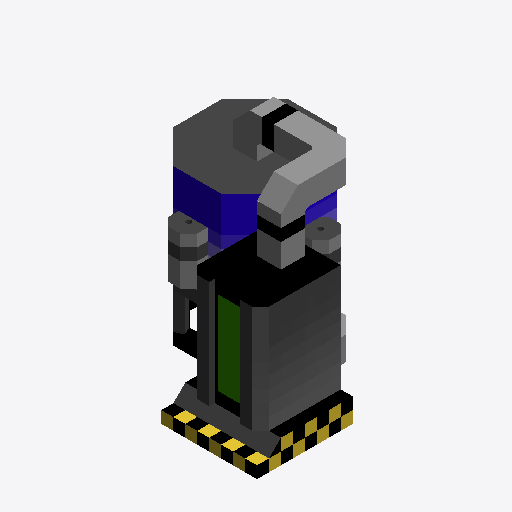
A Minecraft block model of 85 cuboids, rendered isometrically (azimuth 45°, elevation 35.3°) with the resource pack's own textures.
Parts seen in each view (by area): element 4, element 1, element 80, element 9, element 39, element 84, element 6, element 3, element 7, element 85, element 2, element 40 (+12 smaller).
Part boxes in pixels (x1,y1,x2,y2): element 4: (198,231,340,430); element 1: (161,403,352,478); element 80: (250,97,344,160); element 9: (209,275,255,416); element 39: (173,159,231,258); element 84: (257,201,304,268); element 6: (197,271,216,405); element 3: (174,383,280,457); element 7: (252,298,268,430); element 85: (274,150,345,206); element 2: (185,376,352,450); element 40: (221,184,265,250).
Size of the model in its own units: 15.83 by 16.42 by 16.